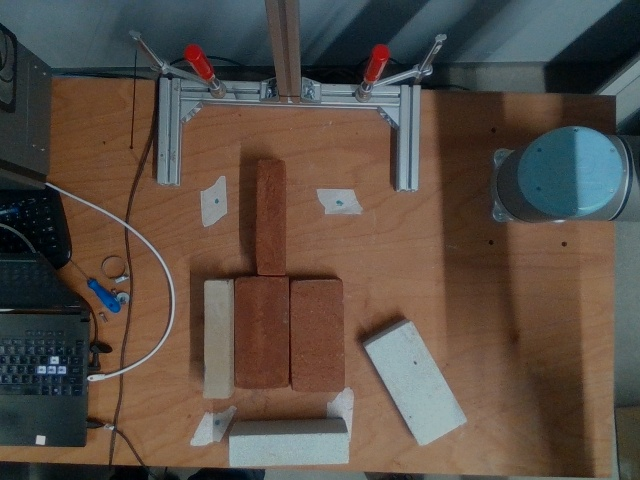brick: (364, 321, 465, 445), (235, 279, 287, 386), (293, 281, 341, 390)
brick-side: (228, 433, 347, 464), (256, 161, 283, 273), (204, 281, 228, 397)
